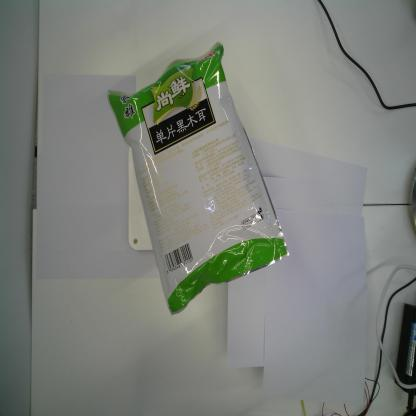Dried Food: (106, 40, 292, 318)
